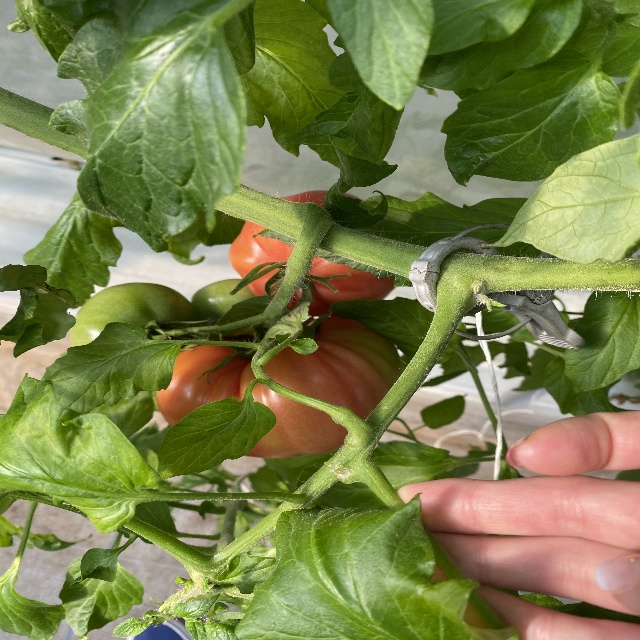b_fully_ripened: (229, 190, 403, 319)
b_green: (71, 283, 218, 346), (189, 279, 270, 339)
b_half_ripened: (152, 316, 402, 457)
